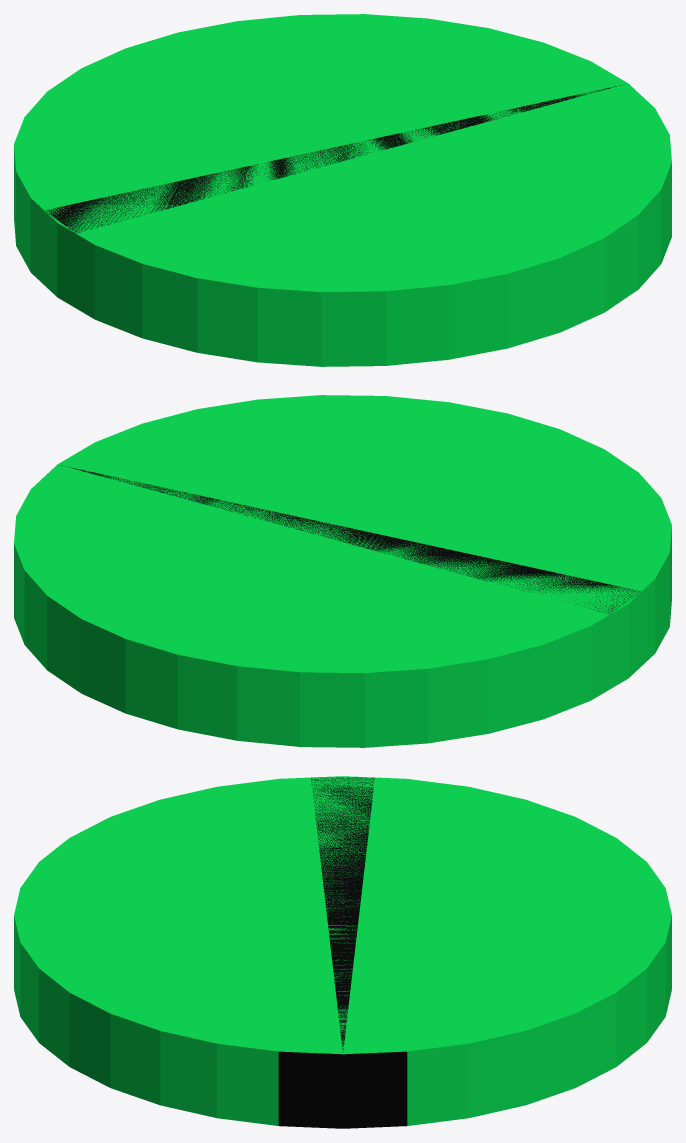
The model's file is start.dae.
The picture shows the model from 3 angles, top to bottom: view 1: azimuth 30°, elevation 25°; view 2: azimuth 150°, elevation 25°; view 3: azimuth 270°, elevation 25°; orthographic projection.
Parts seen in each view (by area): view 1: Cylinder; view 2: Cylinder; view 3: Cylinder.
Part boxes in pixels (x1,y1,x2,y2): Cylinder: (14, 14, 671, 366); Cylinder: (14, 395, 671, 747); Cylinder: (14, 776, 671, 1128).
Size of the model in its own units: 0.1 by 0.1 by 0.0125.
